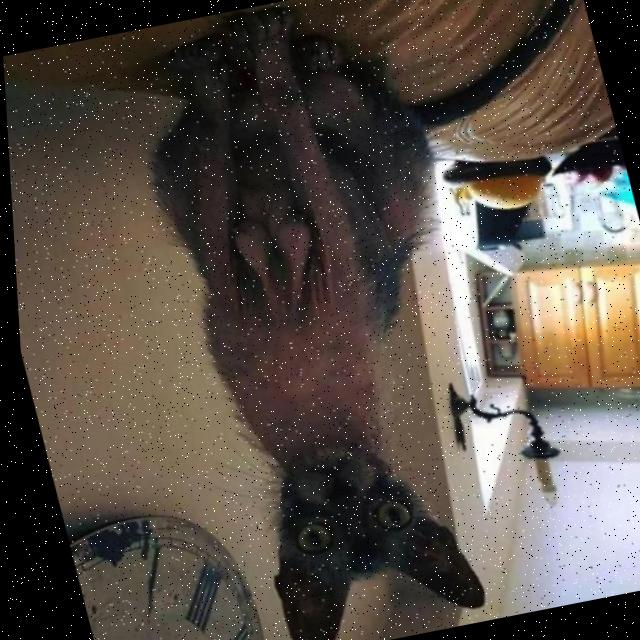Cats: (31, 0, 590, 640)
